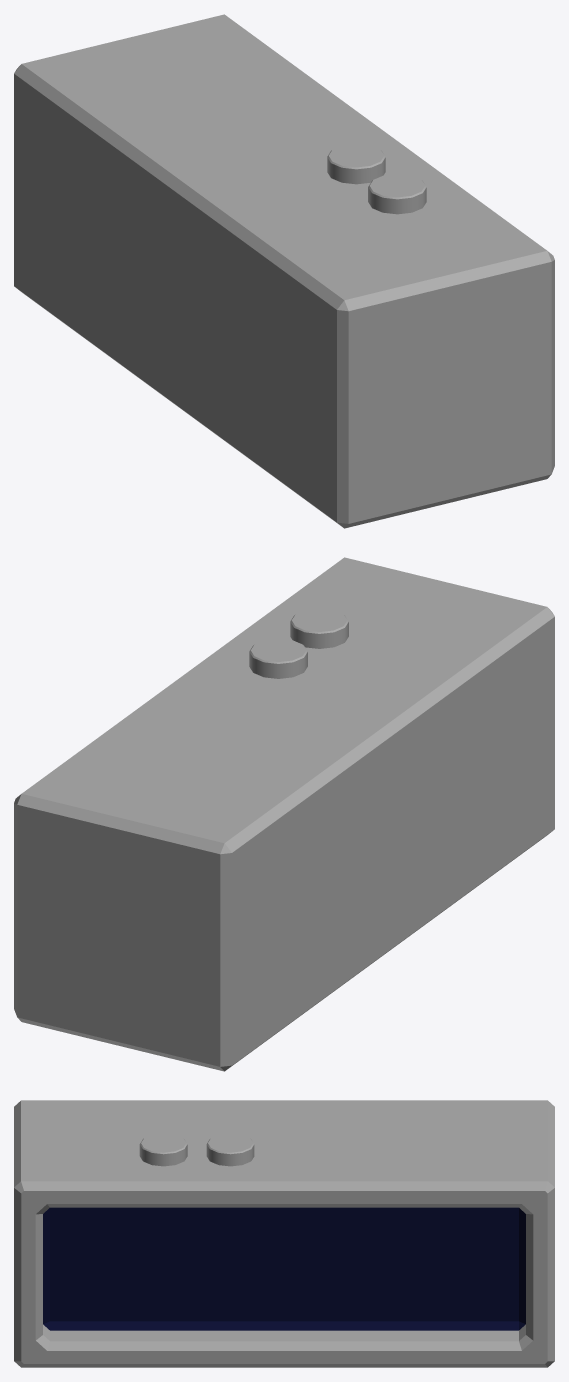
The model's file is SM_Clock.fbx.
The picture shows the model from 3 angles, top to bottom: view 1: azimuth 30°, elevation 25°; view 2: azimuth 150°, elevation 25°; view 3: azimuth 270°, elevation 25°; orthographic projection. The views are drawn at different scales.
Visible parts, largest first — view 1: SM_Clock; view 2: SM_Clock; view 3: SM_Clock.
Boxes of the visible parts, left/top/right/bottom form: SM_Clock: left=14, top=14, right=554, bottom=528; SM_Clock: left=14, top=557, right=554, bottom=1071; SM_Clock: left=14, top=1100, right=554, bottom=1367.
Bounding box in the file's own units: 11.33 × 12.13 × 29.81.
